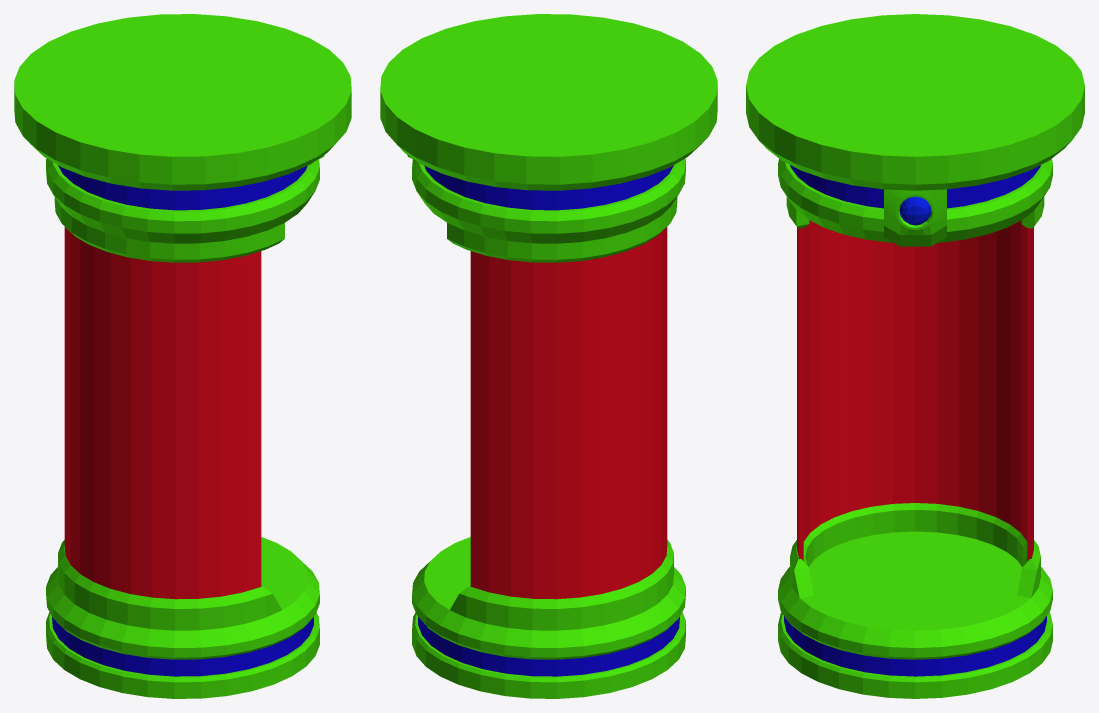
Rendered from NewTeleporter.fbx.
The picture shows the model from 3 angles, left to right: view 1: azimuth 30°, elevation 25°; view 2: azimuth 150°, elevation 25°; view 3: azimuth 270°, elevation 25°; orthographic projection.
Visible parts, largest first — view 1: Teblpoter, Glass; view 2: Teblpoter, Glass; view 3: Teblpoter, Glass, Light.
Boxes of the visible parts, <box> form: Teblpoter: <box>14,14,351,698</box>; Glass: <box>64,227,261,599</box>; Teblpoter: <box>380,14,717,698</box>; Glass: <box>470,227,667,599</box>; Teblpoter: <box>746,14,1084,698</box>; Glass: <box>797,220,1033,560</box>; Light: <box>884,189,946,246</box>.
Size of the model in its own units: 998 by 1810 by 1001.
